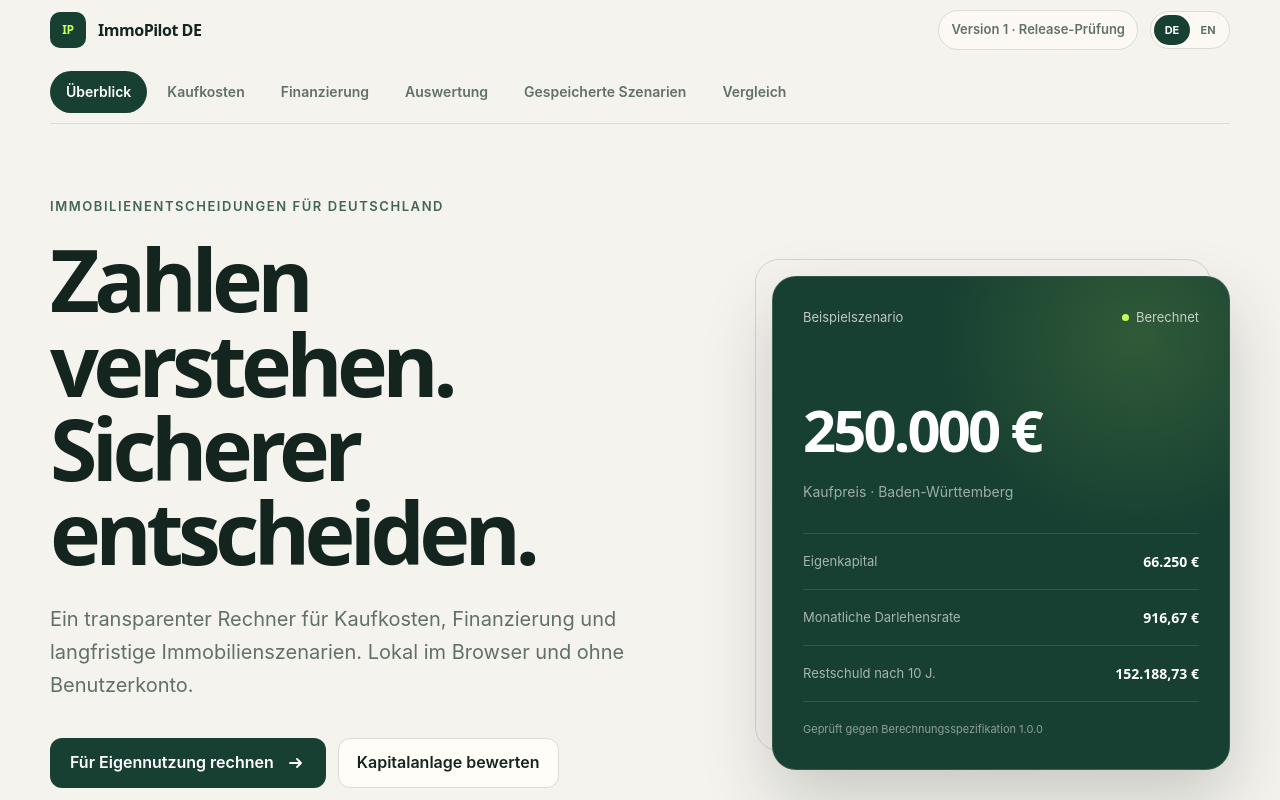
it: App › switches the complete interface between German and English
Click the button with aria-label "English". click: click(1208, 30)
box: [1190,15,1226,45]
(page scrolled)
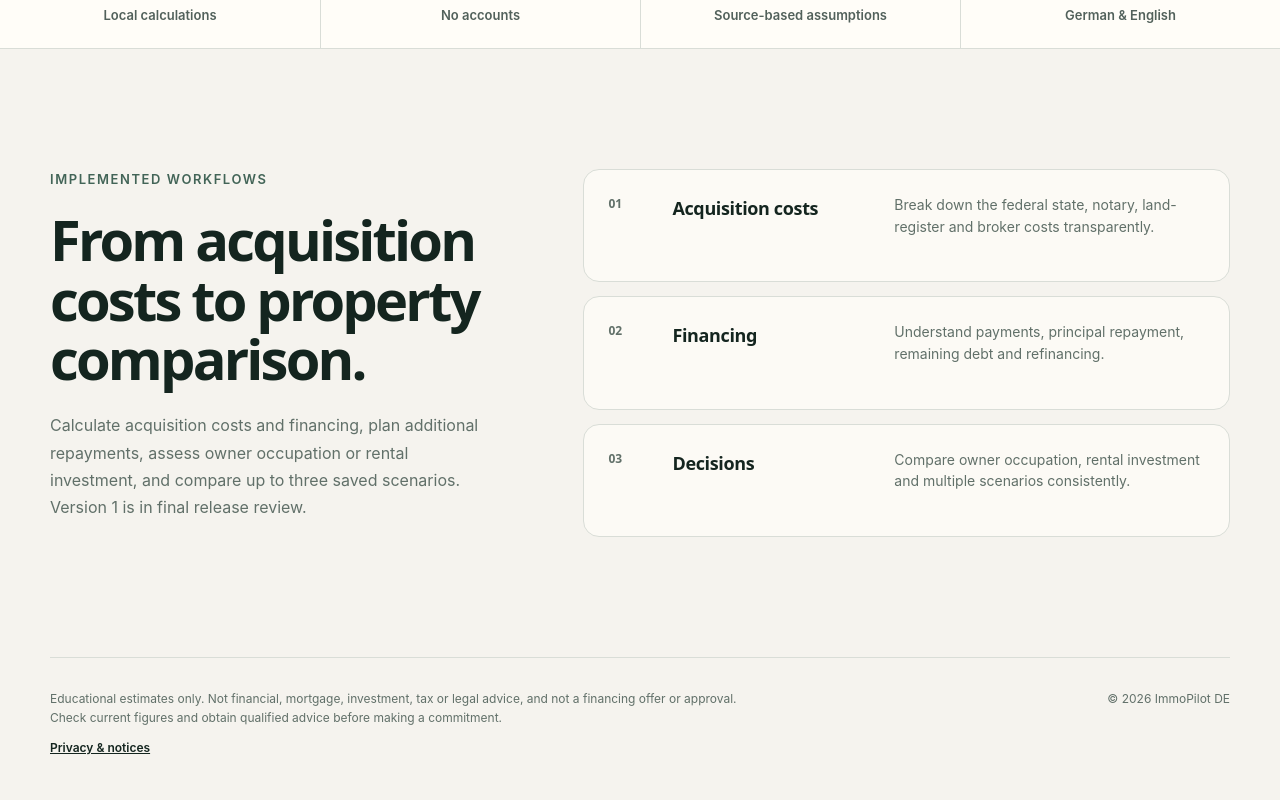
Expected: the text "not a financing offer or approval" is shown, [50,691,737,725]
